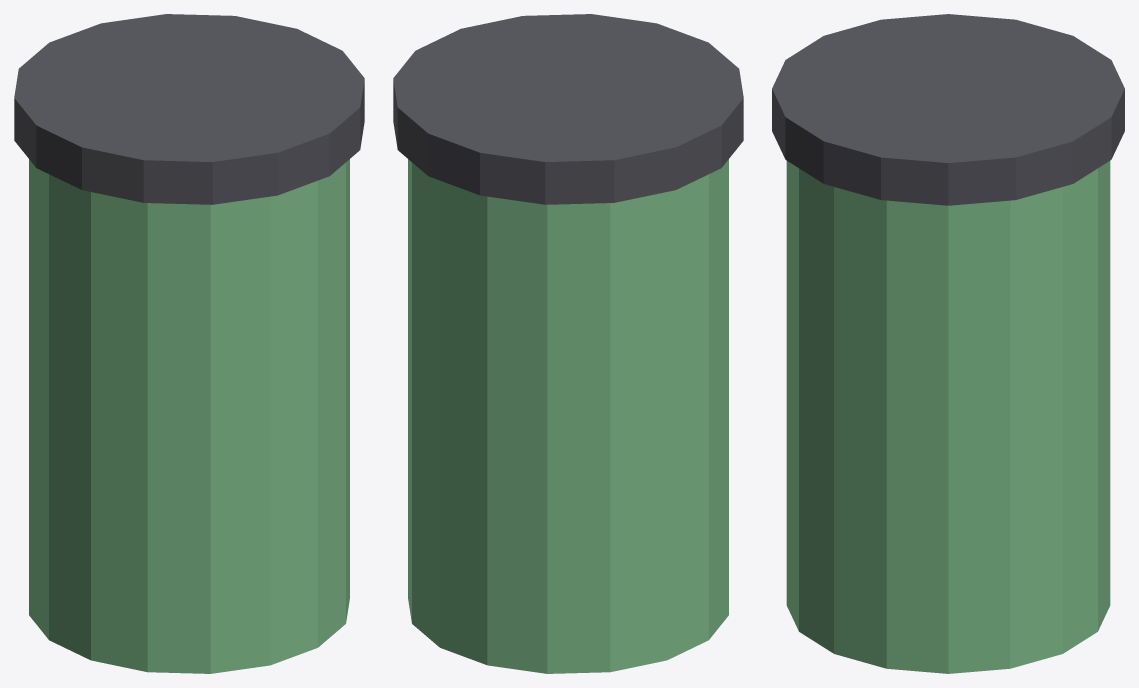
Rendered from pr-trash-bin.glb.
3 renders of one model, left to right at view 1: azimuth 30°, elevation 25°; view 2: azimuth 150°, elevation 25°; view 3: azimuth 270°, elevation 25°, orthographic.
Parts seen in each view (by area): view 1: bin; view 2: bin; view 3: bin.
Boxes of the visible parts, x1,y1,x2,y2 form: bin: [14, 14, 364, 673]; bin: [393, 14, 743, 673]; bin: [772, 14, 1124, 673].
Bounding box in the file's own units: 0.6 × 0.97 × 0.6.
